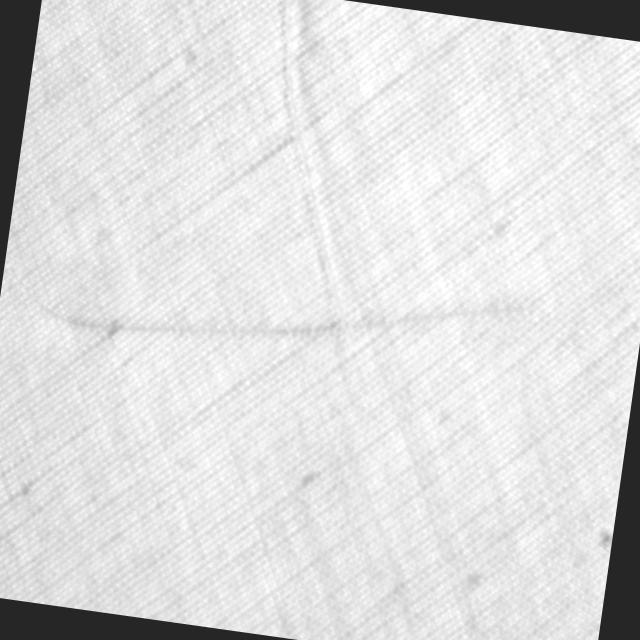objects: (36, 229, 529, 395), (226, 0, 393, 355)
